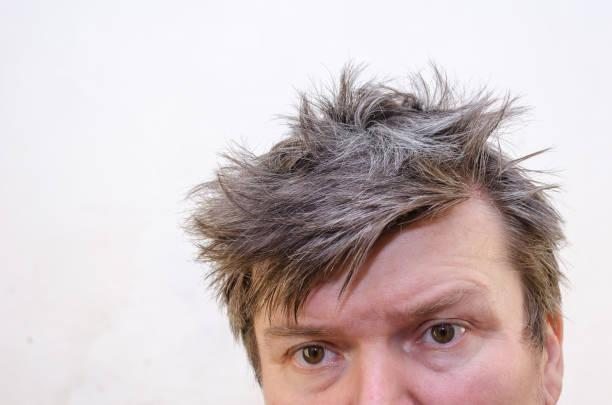dry hair: (227, 196, 369, 249), (293, 119, 381, 175), (480, 96, 516, 214)
